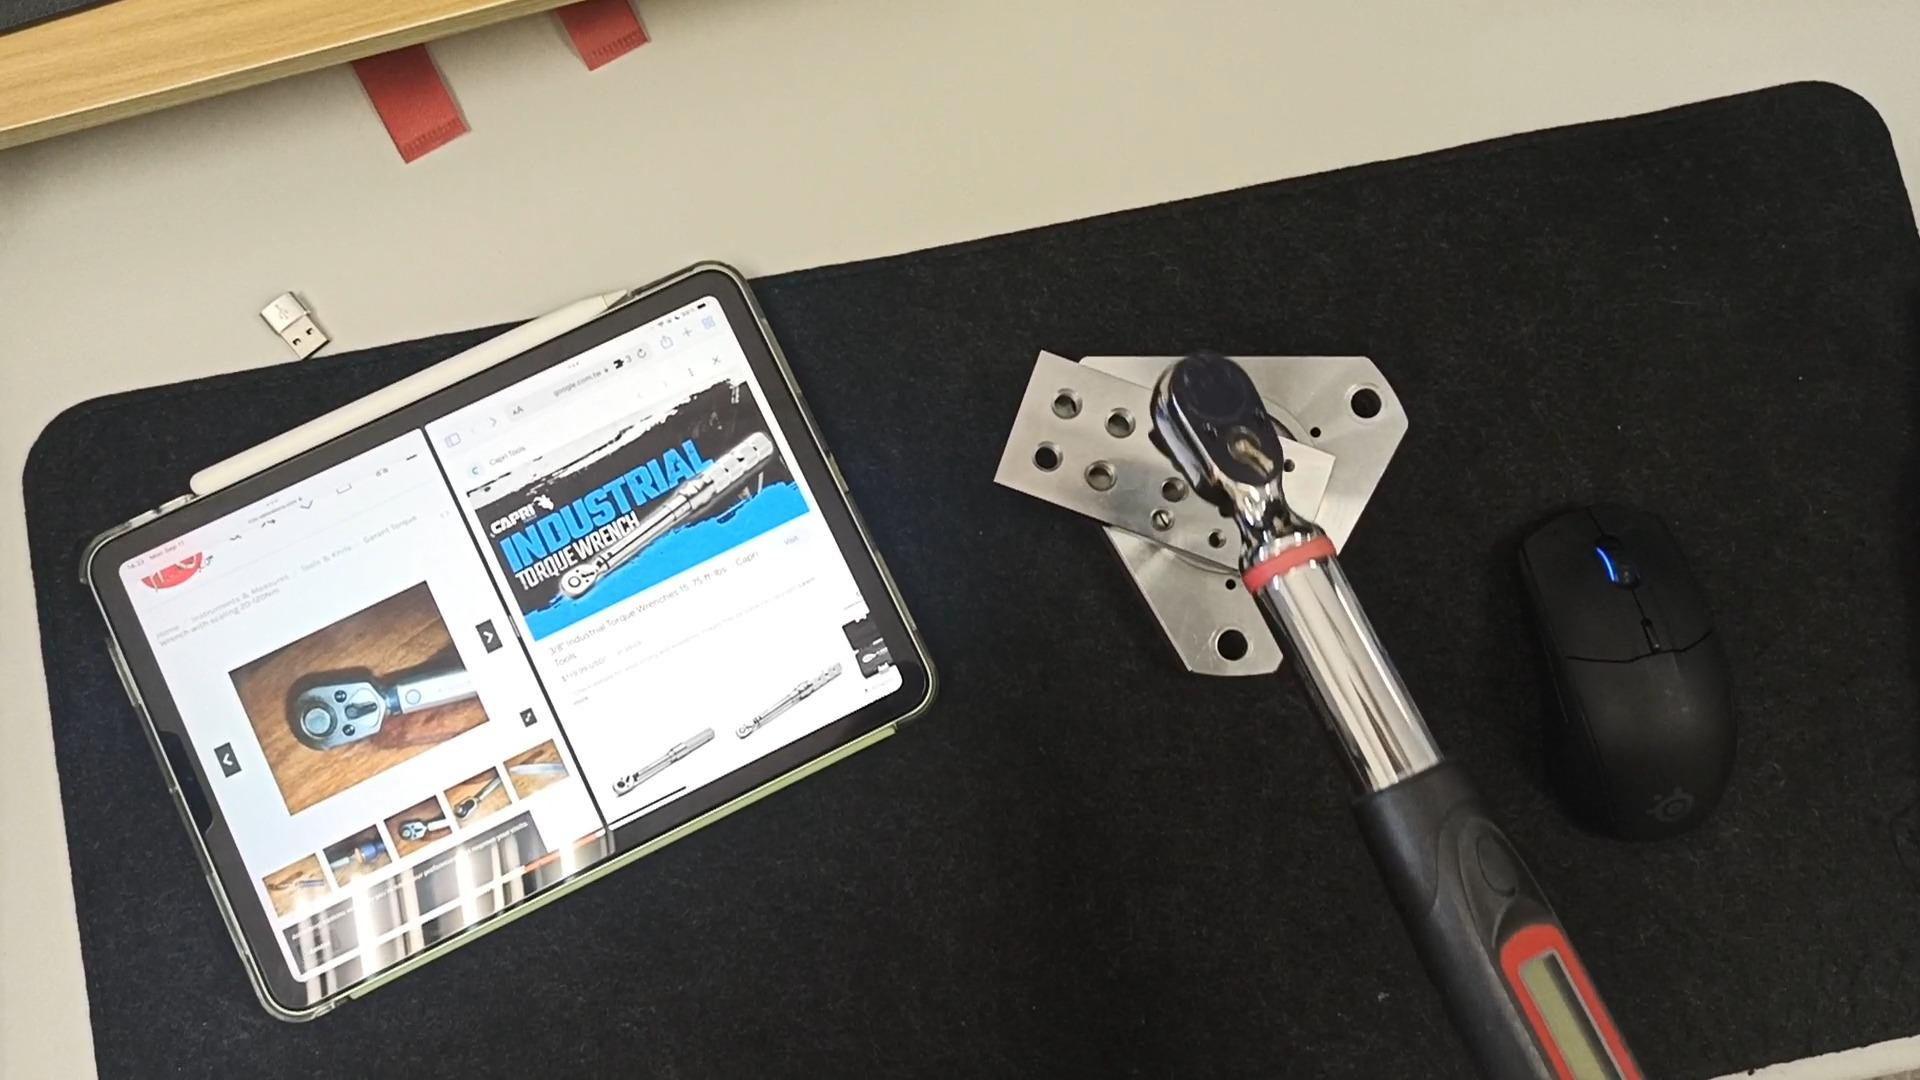Tool: (1154, 355, 1305, 542), (287, 679, 388, 746), (556, 560, 608, 605)
hole: (1332, 385, 1398, 433), (1195, 630, 1261, 673), (1093, 406, 1151, 447), (1039, 389, 1101, 427), (1075, 459, 1134, 497), (1015, 443, 1075, 480), (1149, 476, 1193, 508), (1199, 526, 1232, 551), (1151, 506, 1174, 539)
